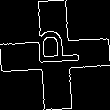P_W: (29, 35, 81, 75)
